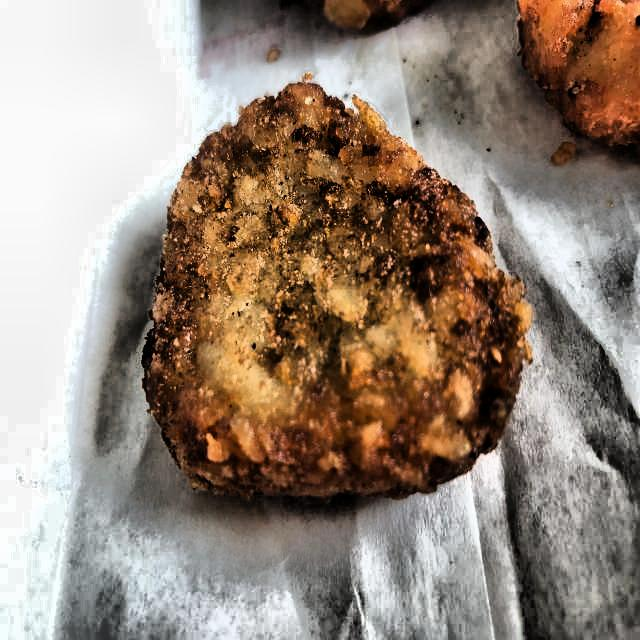Food: (135, 72, 537, 507)
